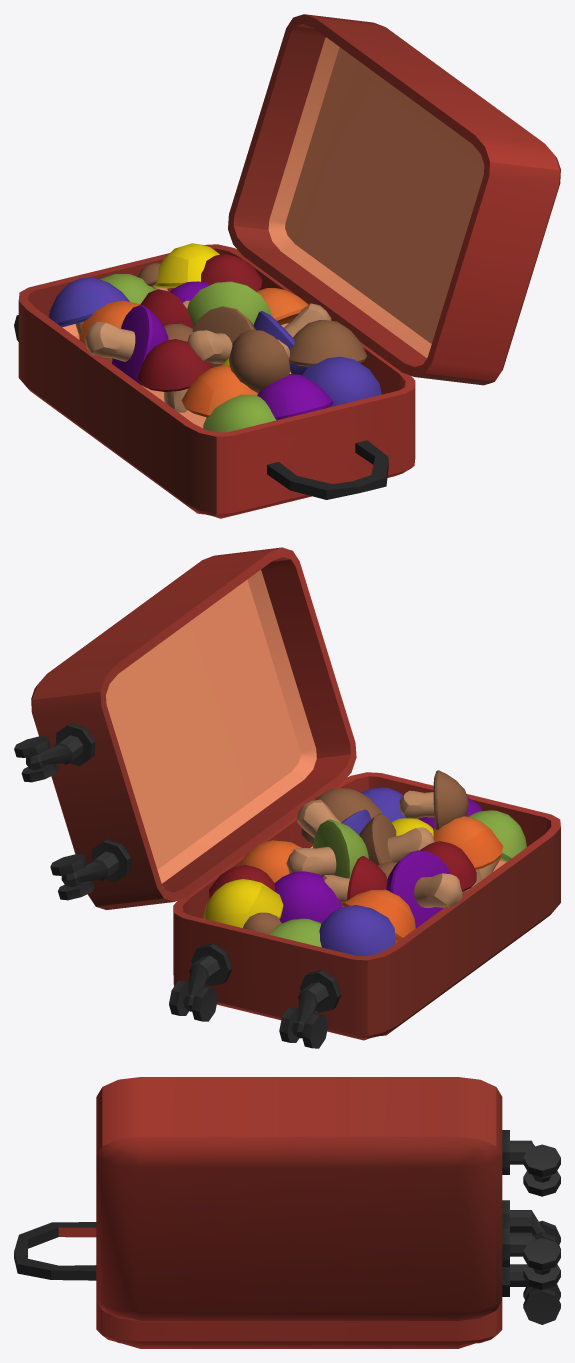
File: MushroomsKOFFER.fbx
3 renders of one model, top to bottom at view 1: azimuth 30°, elevation 25°; view 2: azimuth 150°, elevation 25°; view 3: azimuth 270°, elevation 25°, orthographic. The views are drawn at different scales.
Visible parts, largest first — view 1: Cube.001, Cube, Quadsphere.022, Quadsphere.013, Quadsphere.017, Quadsphere.015, Quadsphere.003, Quadsphere.023, Quadsphere.014, Quadsphere.010, Quadsphere.018, Quadsphere.016 (+8 smaller); view 2: Cube.001, Cube, Quadsphere.008, Quadsphere.009, Quadsphere.022, Quadsphere.014, Quadsphere.018, Quadsphere.019, Quadsphere.007, Quadsphere.017, Quadsphere.016, Quadsphere.023 (+10 smaller); view 3: Cube.001, Cube, Quadsphere.009, Quadsphere.008.
Part boxes in pixels (left/top/right/bottom): Cube.001: left=228, top=14, right=560, bottom=385; Cube: left=18, top=244, right=415, bottom=518; Quadsphere.022: left=84, top=305, right=168, bottom=385; Quadsphere.013: left=137, top=339, right=212, bottom=412; Quadsphere.017: left=229, top=329, right=290, bottom=393; Quadsphere.015: left=289, top=320, right=366, bottom=366; Quadsphere.003: left=302, top=356, right=381, bottom=407; Quadsphere.023: left=187, top=306, right=255, bottom=367; Quadsphere.014: left=48, top=277, right=129, bottom=337; Quadsphere.010: left=257, top=373, right=333, bottom=420; Quadsphere.018: left=187, top=281, right=271, bottom=327; Quadsphere.016: left=181, top=365, right=257, bottom=417; Cube.001: left=31, top=547, right=356, bottom=909; Cube: left=173, top=772, right=560, bottom=1040; Quadsphere.008: left=169, top=943, right=341, bottom=1048; Quadsphere.009: left=14, top=723, right=130, bottom=900; Quadsphere.022: left=386, top=850, right=462, bottom=928; Quadsphere.014: left=319, top=905, right=395, bottom=956; Quadsphere.018: left=286, top=819, right=368, bottom=878; Quadsphere.019: left=203, top=879, right=283, bottom=927; Quadsphere.007: left=274, top=871, right=342, bottom=923; Quadsphere.017: left=399, top=770, right=468, bottom=829; Quadsphere.016: left=433, top=816, right=503, bottom=894; Quadsphere.023: left=359, top=813, right=434, bottom=864; Cube.001: left=96, top=1077, right=502, bottom=1321; Cube: left=14, top=1222, right=502, bottom=1348; Quadsphere.009: left=502, top=1130, right=560, bottom=1289; Quadsphere.008: left=502, top=1200, right=560, bottom=1324.
Size of the model in its own units: 455 by 368 by 584.
2 materials, 2 textured.
